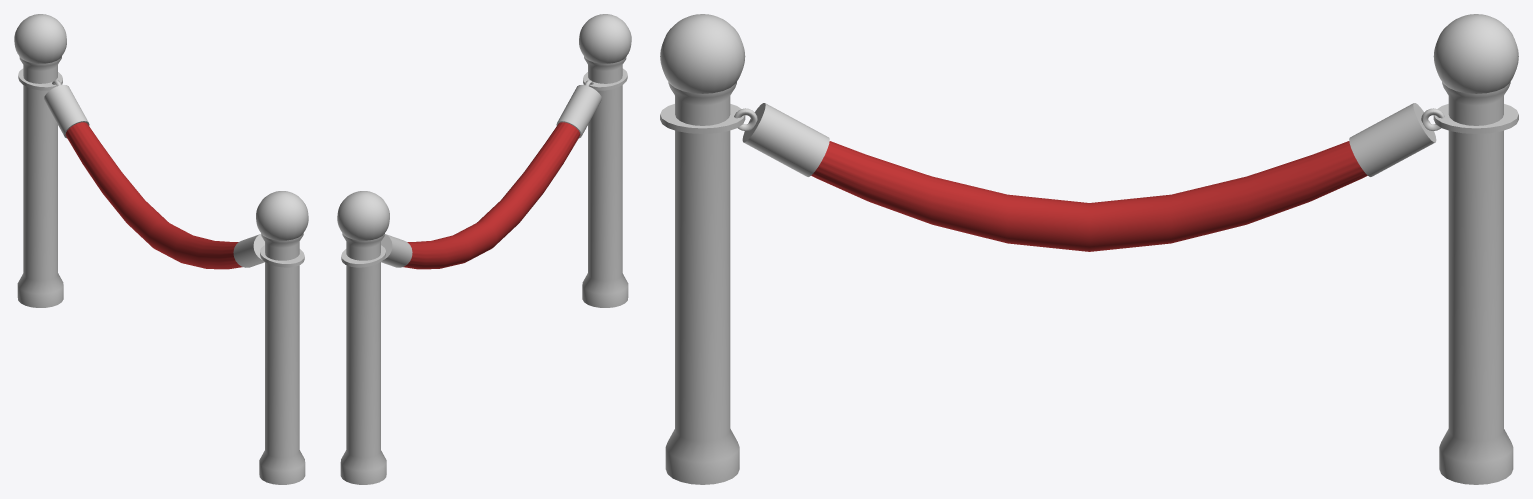
The model's file is RedRopes.fbx.
The picture shows the model from 3 angles, left to right: view 1: azimuth 30°, elevation 25°; view 2: azimuth 150°, elevation 25°; view 3: azimuth 270°, elevation 25°; orthographic projection. The views are drawn at different scales.
Visible parts, largest first — view 1: pCylinder1, pCylinder2, pCylinder3, pSphere1, pSphere2, pCylinder9, pCylinder8, pCylinder7, pCylinder4; view 2: pCylinder2, pCylinder1, pCylinder3, pSphere2, pSphere1, pCylinder8, pCylinder9, pCylinder4, pCylinder7; view 3: pCylinder3, pCylinder1, pCylinder2, pSphere1, pSphere2, pCylinder8, pCylinder9, pCylinder4, pCylinder7.
Part boxes in pixels (bbox=[...]): pCylinder1: bbox=[259, 233, 305, 484]; pCylinder2: bbox=[17, 56, 63, 307]; pCylinder3: bbox=[65, 122, 242, 269]; pSphere1: bbox=[256, 191, 308, 240]; pSphere2: bbox=[14, 14, 66, 63]; pCylinder9: bbox=[44, 85, 89, 138]; pCylinder8: bbox=[233, 234, 264, 267]; pCylinder7: bbox=[260, 245, 304, 267]; pCylinder4: bbox=[18, 68, 62, 90]; pCylinder2: bbox=[340, 233, 386, 484]; pCylinder1: bbox=[582, 56, 628, 307]; pCylinder3: bbox=[403, 122, 580, 269]; pSphere2: bbox=[337, 191, 389, 240]; pSphere1: bbox=[579, 14, 631, 63]; pCylinder8: bbox=[556, 85, 601, 138]; pCylinder9: bbox=[381, 234, 412, 267]; pCylinder4: bbox=[341, 245, 385, 267]; pCylinder7: bbox=[583, 68, 627, 90]; pCylinder3: bbox=[811, 141, 1367, 251]; pCylinder1: bbox=[665, 82, 739, 484]; pCylinder2: bbox=[1439, 82, 1513, 484]; pSphere1: bbox=[660, 14, 745, 93]; pSphere2: bbox=[1433, 14, 1518, 93]; pCylinder8: bbox=[742, 103, 829, 176]; pCylinder9: bbox=[1349, 103, 1436, 176]; pCylinder4: bbox=[1433, 104, 1518, 133]; pCylinder7: bbox=[660, 104, 745, 133].
Bounding box in the file's own units: 0.6601 × 3.86 × 6.66.
